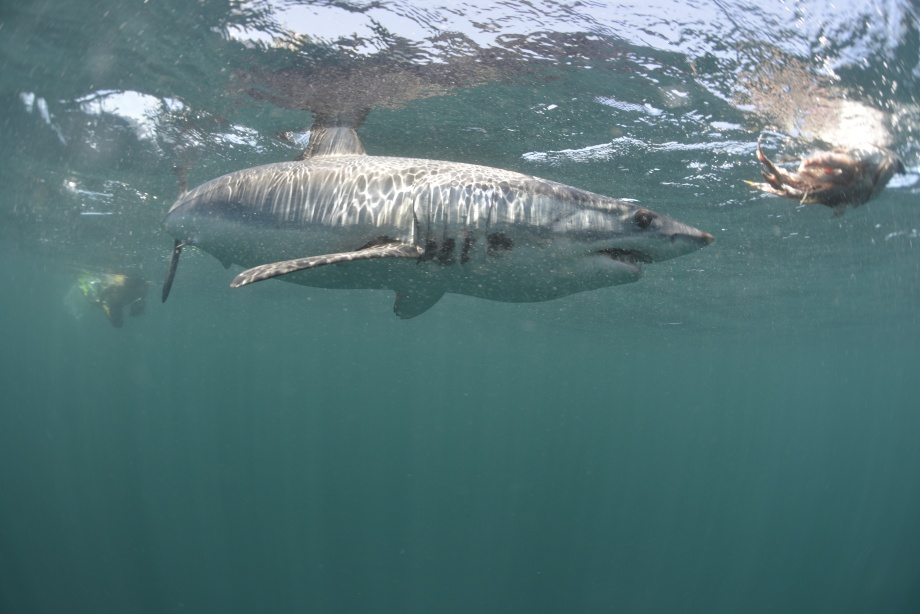Mako: (130, 105, 723, 350)
